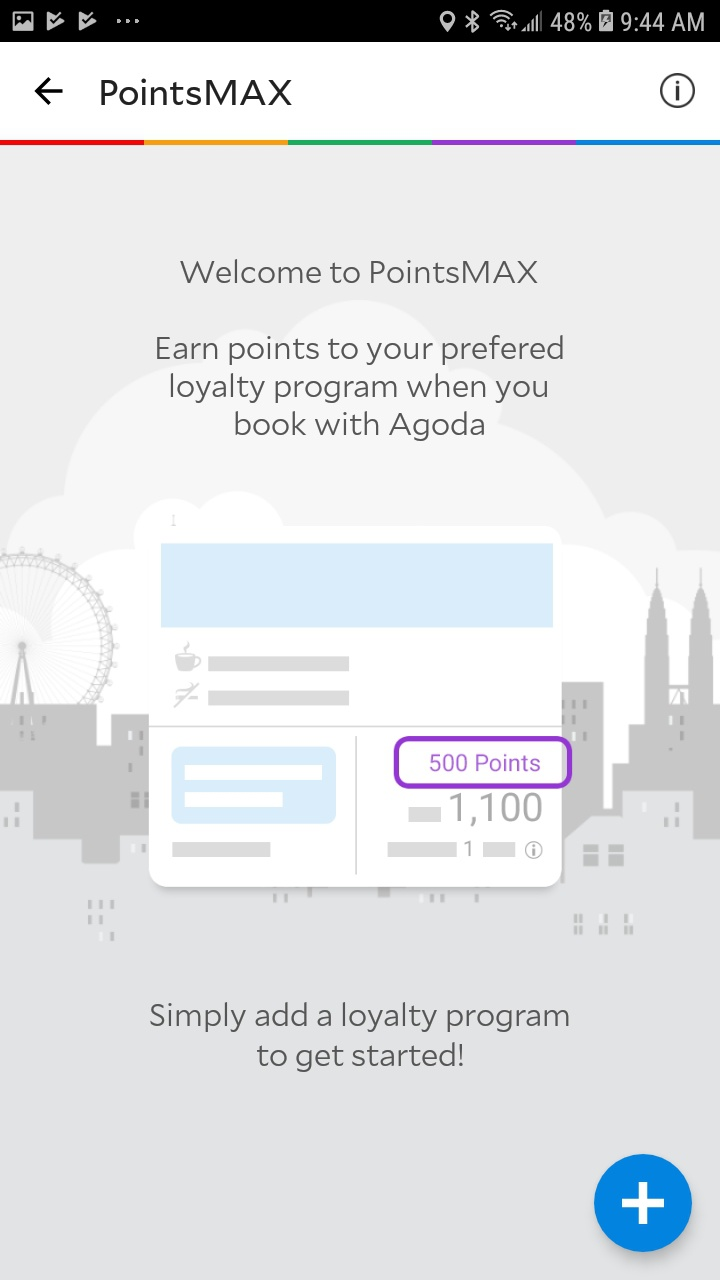BackgroundImage: (1, 146, 720, 1280)
Icon: (593, 1153, 692, 1253), (659, 73, 696, 110), (35, 77, 64, 107)
Text: (157, 335, 564, 442), (150, 1002, 569, 1073), (180, 259, 538, 285), (101, 78, 293, 107)
UpperTaskBar: (1, 1, 720, 43)
